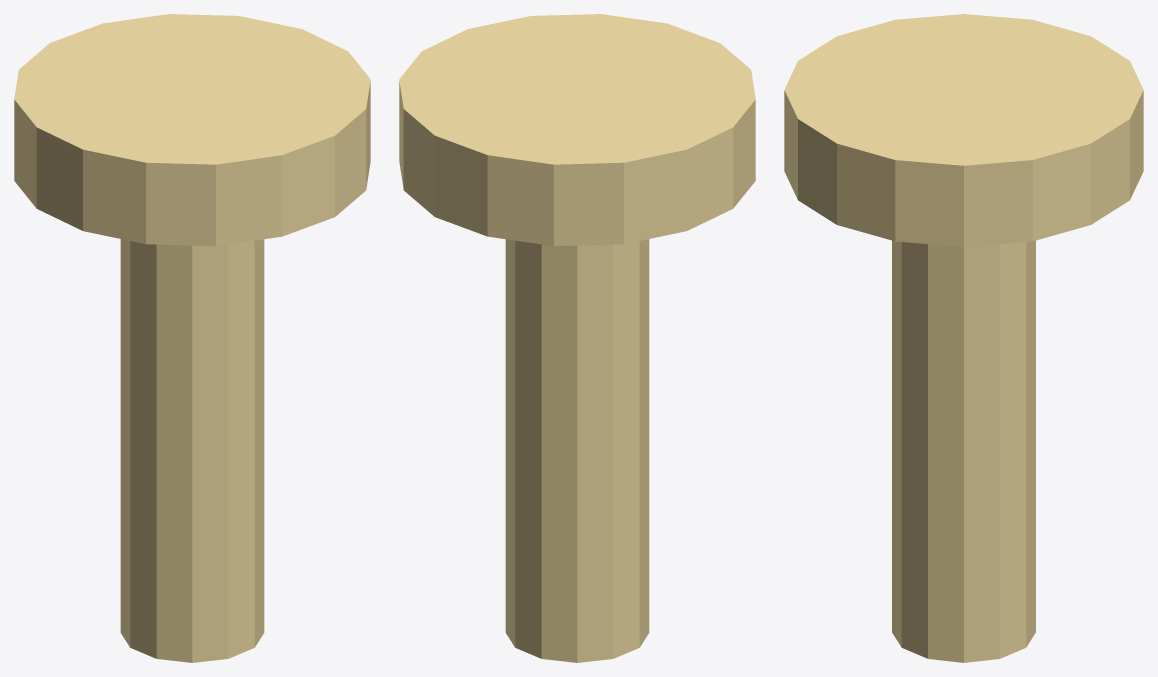
The model's file is zone-1.glb.
3 renders of one model, left to right at view 1: azimuth 30°, elevation 25°; view 2: azimuth 150°, elevation 25°; view 3: azimuth 270°, elevation 25°, orthographic.
Parts seen in each view (by area): view 1: zone-1; view 2: zone-1; view 3: zone-1.
Part boxes in pixels (box(x1,y1,x2,y2)): zone-1: box(14, 14, 370, 662); zone-1: box(399, 14, 755, 662); zone-1: box(784, 14, 1143, 662).
Size of the model in its own units: 0.6 by 1 by 0.6.
